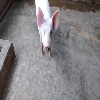heo: (35, 6, 63, 59)
